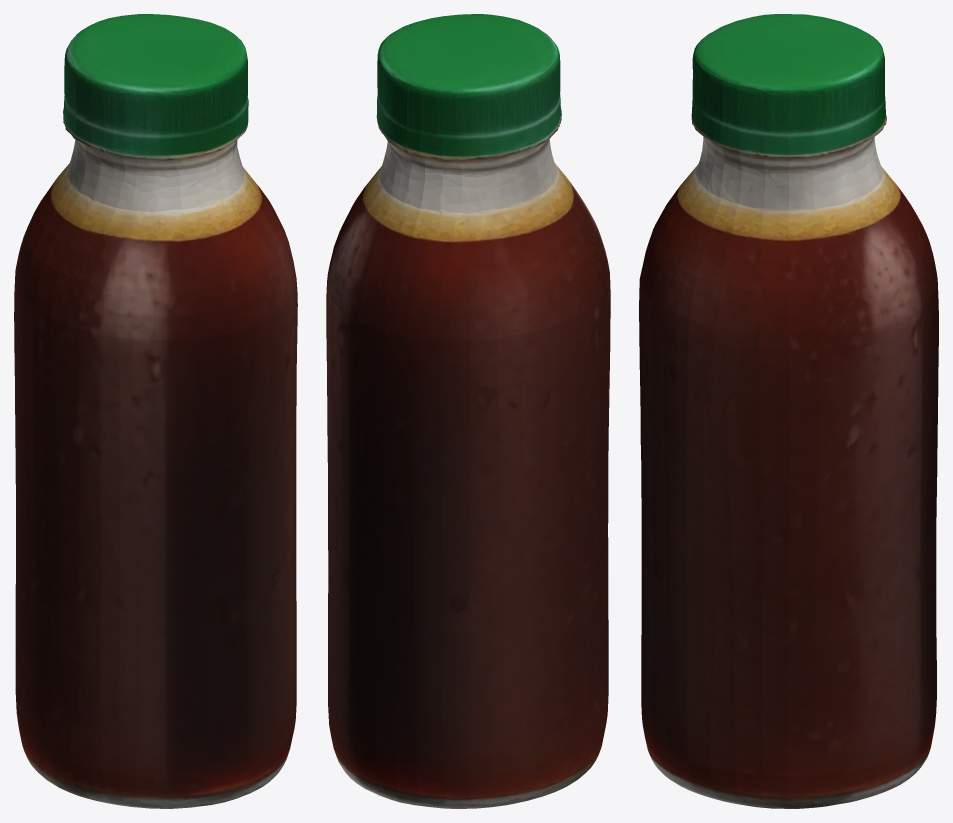
Rendered from coldbrew.glb.
The picture shows the model from 3 angles, left to right: view 1: azimuth 30°, elevation 25°; view 2: azimuth 150°, elevation 25°; view 3: azimuth 270°, elevation 25°; orthographic projection.
Visible parts, largest first — view 1: geometry_0; view 2: geometry_0; view 3: geometry_0.
Part boxes in pixels (<box>): geometry_0: <box>14,14,297,808</box>; geometry_0: <box>326,14,610,808</box>; geometry_0: <box>639,14,938,808</box>.
Size of the model in its own units: 0.3599 by 0.9954 by 0.3801.
Materials: 1 (1 with a texture image).
